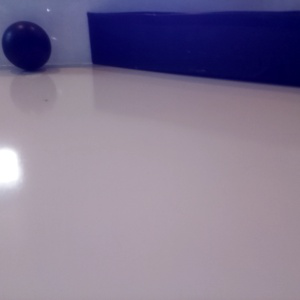zone: (87, 10, 300, 87)
